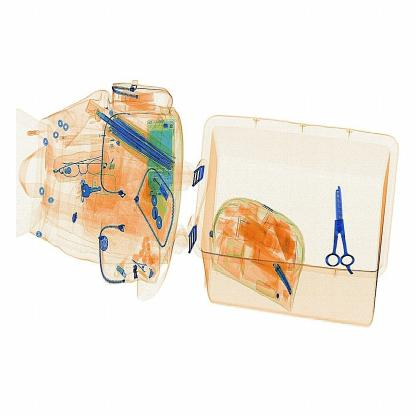gun: (320, 172, 358, 287)
